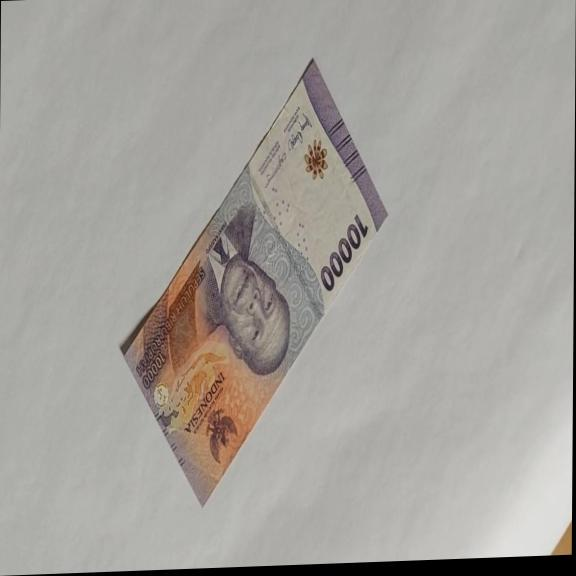Kertas: (118, 55, 389, 512), (320, 211, 368, 293)
